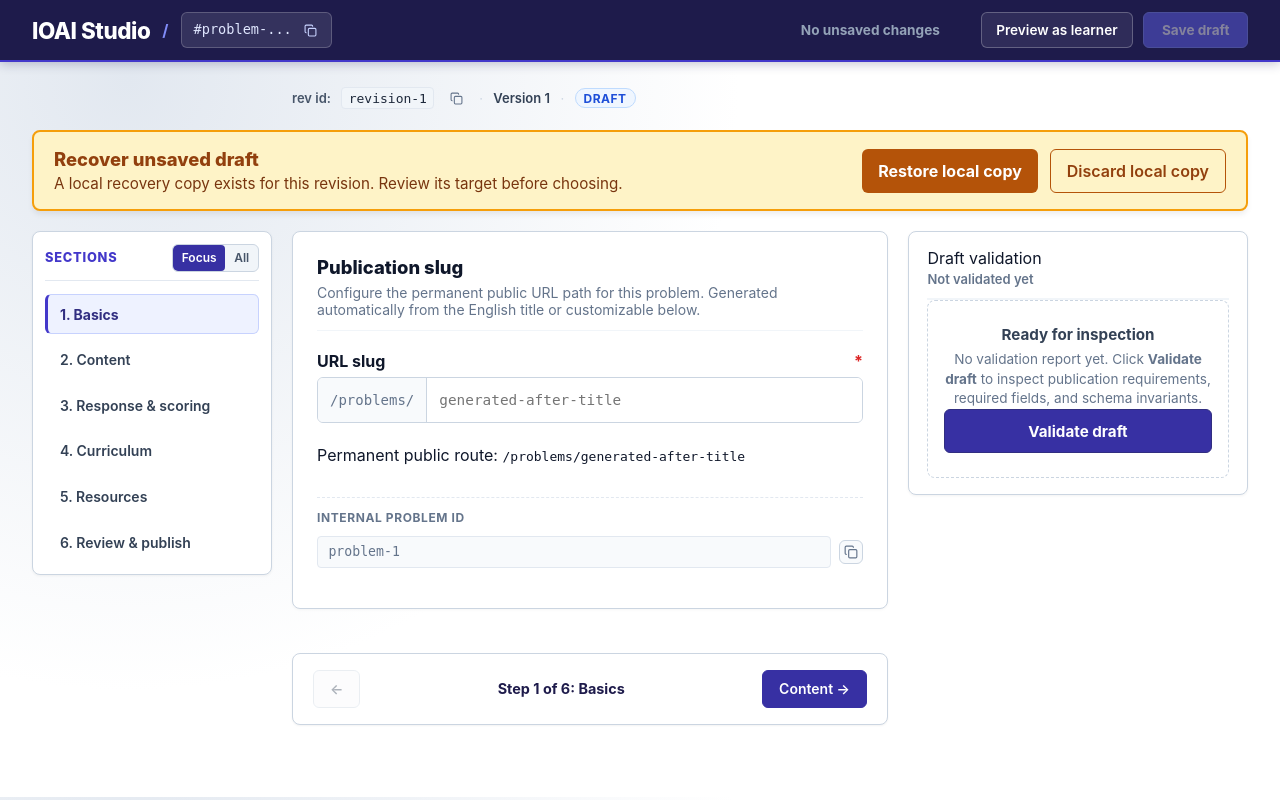
Test: draft editor coordinator › displays recovery banner when local copy exists and allows restoring or discarding
Check: the element "Recover unsaved draft" is shown, box [32,130,1248,211]
Click the button "Restore local copy". click: (950, 170)
box: [862,148,1038,192]
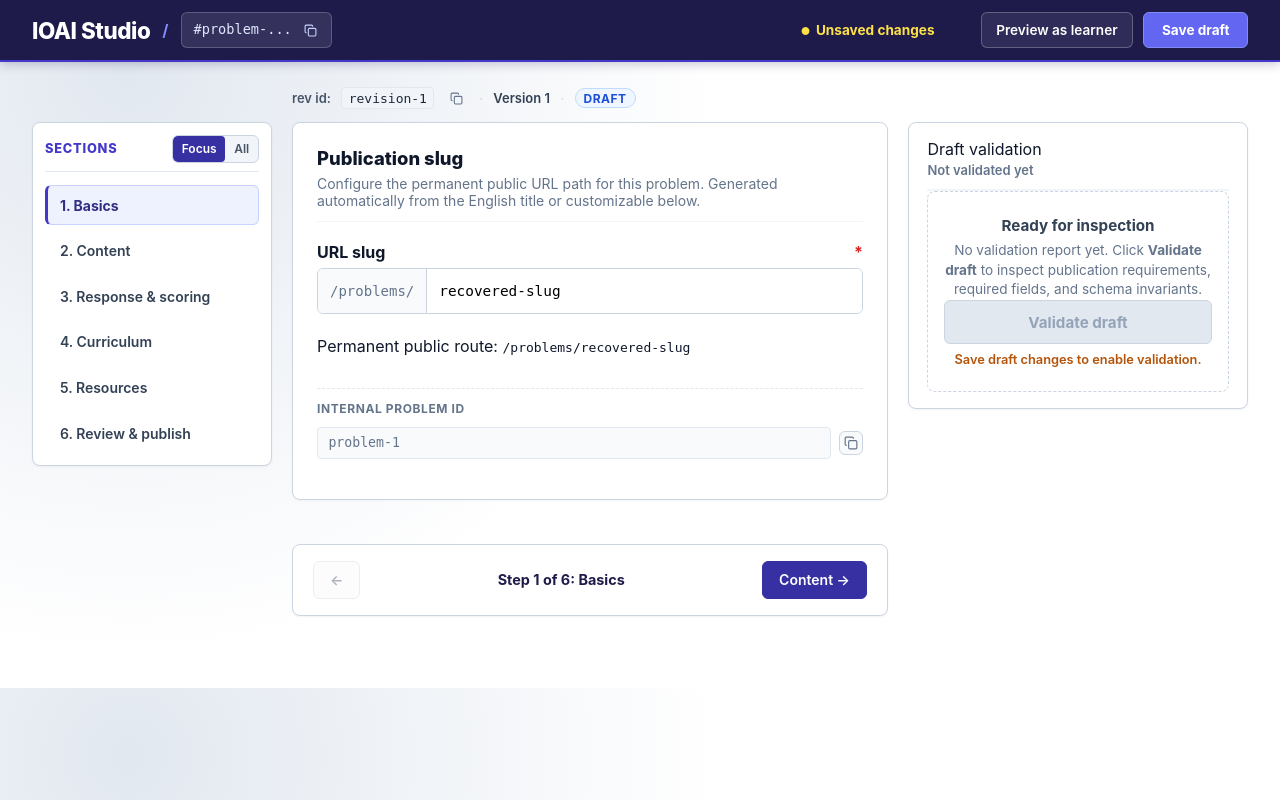
Check: the field labelled "URL slug" holds "recovered-slug", box [427,269,862,313]
Check: the heading "Recover unsaved draft" is gone
